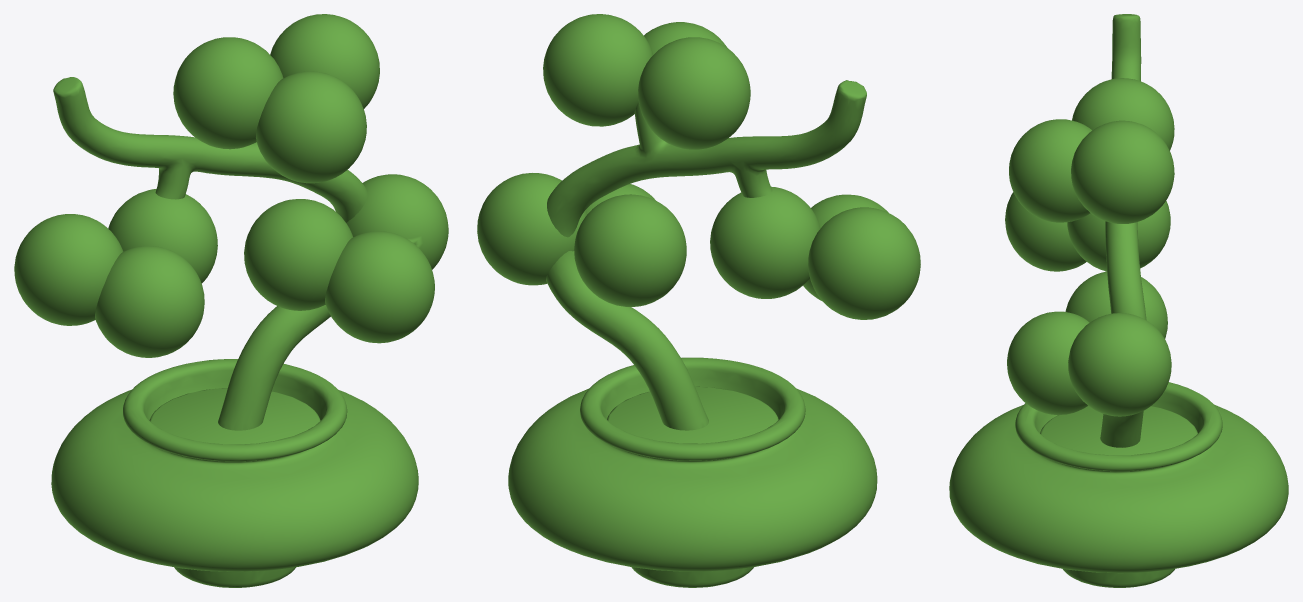
The model's file is geometric-plant.glb.
3 renders of one model, left to right at view 1: azimuth 30°, elevation 25°; view 2: azimuth 150°, elevation 25°; view 3: azimuth 270°, elevation 25°, orthographic. The views are drawn at different scales.
Parts seen in each view (by area): view 1: 02 / Three spherical foliage clusters / web, 03 / Rounded sculptural planter / web, 01 / S-shaped trunk and branches / web, 04 / Recessed planting insert / web; view 2: 02 / Three spherical foliage clusters / web, 03 / Rounded sculptural planter / web, 01 / S-shaped trunk and branches / web, 04 / Recessed planting insert / web; view 3: 03 / Rounded sculptural planter / web, 02 / Three spherical foliage clusters / web, 01 / S-shaped trunk and branches / web, 04 / Recessed planting insert / web.
Boxes of the visible parts, x1,y1,x2,y2 form: 02 / Three spherical foliage clusters / web: [14, 14, 448, 357]; 03 / Rounded sculptural planter / web: [51, 359, 418, 587]; 01 / S-shaped trunk and branches / web: [53, 77, 367, 430]; 04 / Recessed planting insert / web: [149, 388, 320, 444]; 02 / Three spherical foliage clusters / web: [477, 14, 920, 319]; 03 / Rounded sculptural planter / web: [508, 357, 877, 587]; 01 / S-shaped trunk and branches / web: [546, 80, 866, 430]; 04 / Recessed planting insert / web: [607, 386, 778, 443]; 03 / Rounded sculptural planter / web: [949, 382, 1288, 587]; 02 / Three spherical foliage clusters / web: [1005, 78, 1174, 416]; 01 / S-shaped trunk and branches / web: [1100, 14, 1146, 447]; 04 / Recessed planting insert / web: [1040, 406, 1197, 455].
Size of the model in its own units: 4.79 by 5.65 by 3.6.
